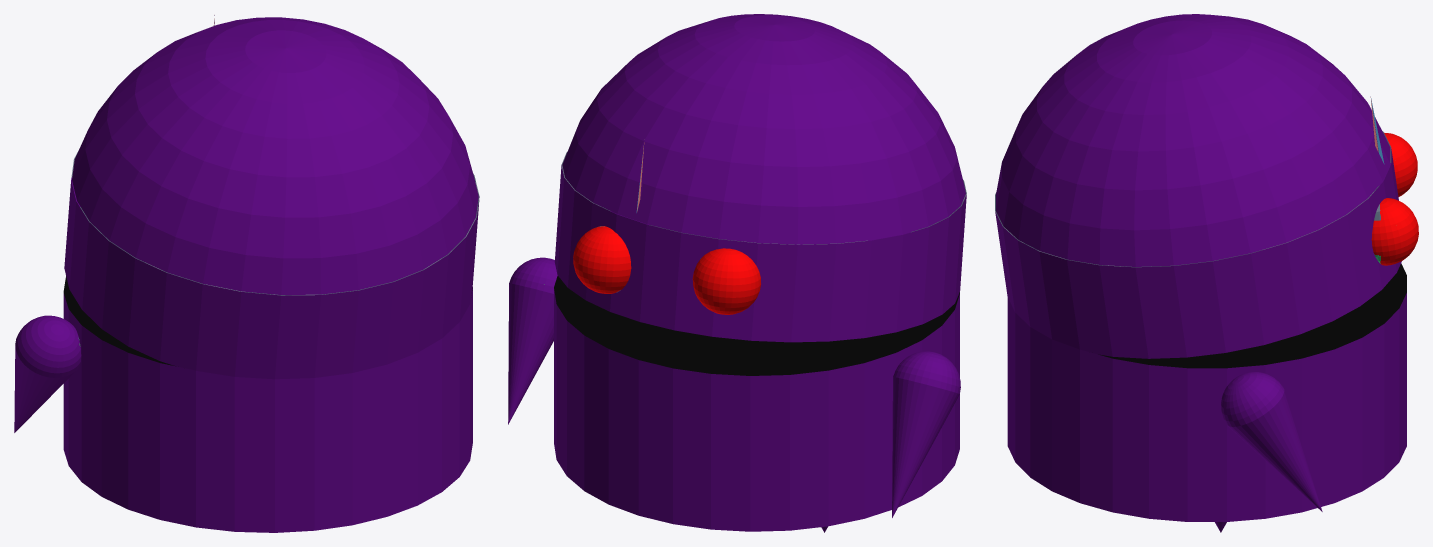
File: planet_violet.gltf
The picture shows the model from 3 angles, left to right: view 1: azimuth 30°, elevation 25°; view 2: azimuth 150°, elevation 25°; view 3: azimuth 270°, elevation 25°; orthographic projection. The views are drawn at different scales.
Parts seen in each view (by area): view 1: cone; view 2: cone; view 3: cone.
Part boxes in pixels (x1,y1,x2,y2): cone: [14, 15, 479, 532]; cone: [508, 14, 966, 532]; cone: [995, 14, 1418, 532].
Size of the model in its own units: 0.9313 by 0.9496 by 0.7801.
Materials: 1 (1 with a texture image).
